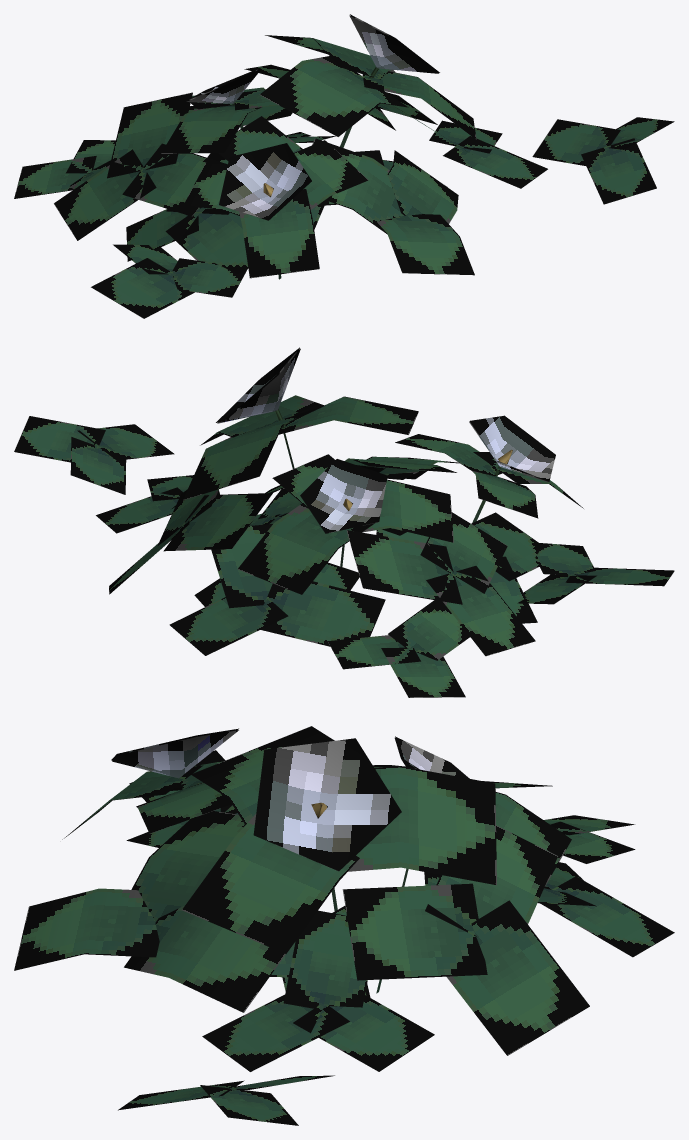
File: plants_wildflower01.gltf
3 views of the same model, one above another, from view 1: azimuth 30°, elevation 25°; view 2: azimuth 150°, elevation 25°; view 3: azimuth 270°, elevation 25° (orthographic). The views are drawn at different scales.
Parts seen in each view (by area): view 1: plants_wildflower01; view 2: plants_wildflower01; view 3: plants_wildflower01.
Part boxes in pixels (box(x1,y1,x2,y2)): plants_wildflower01: box(14, 14, 674, 318); plants_wildflower01: box(14, 347, 674, 697); plants_wildflower01: box(14, 726, 674, 1125).
Size of the model in its own units: 1.24 by 0.435 by 0.8784.
Materials: 1 (1 with a texture image).
